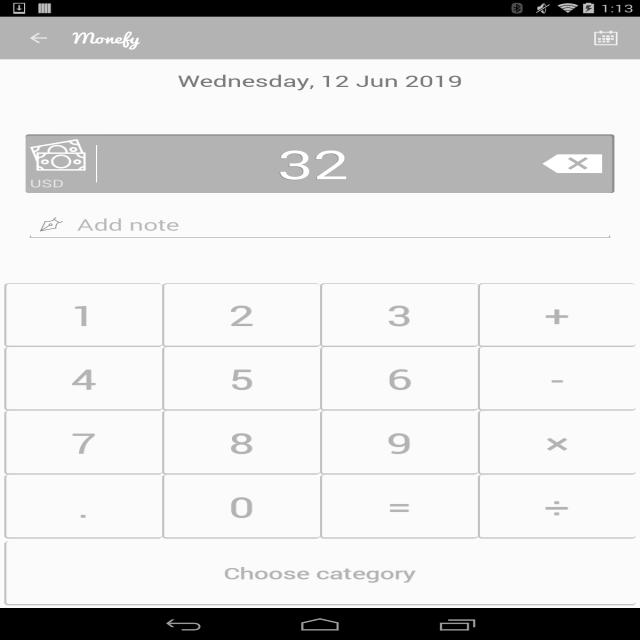Button: (4, 283, 162, 347), (162, 283, 320, 347), (320, 283, 478, 347), (478, 283, 636, 347), (4, 347, 162, 411), (162, 347, 320, 411), (320, 347, 478, 411), (478, 347, 636, 411), (4, 410, 162, 474), (162, 410, 320, 474), (320, 410, 478, 474), (478, 410, 636, 474), (4, 474, 162, 538), (162, 474, 320, 538), (320, 474, 478, 538), (478, 474, 636, 538)
EditText: (26, 209, 614, 241)
ImageButton: (529, 134, 614, 193), (9, 17, 68, 59)
ImageView: (30, 137, 87, 176)
Spinner: (26, 134, 91, 193)
TextView: (101, 137, 525, 190), (178, 70, 462, 92), (223, 562, 416, 584), (580, 22, 632, 54), (72, 26, 140, 50), (30, 176, 87, 190)
